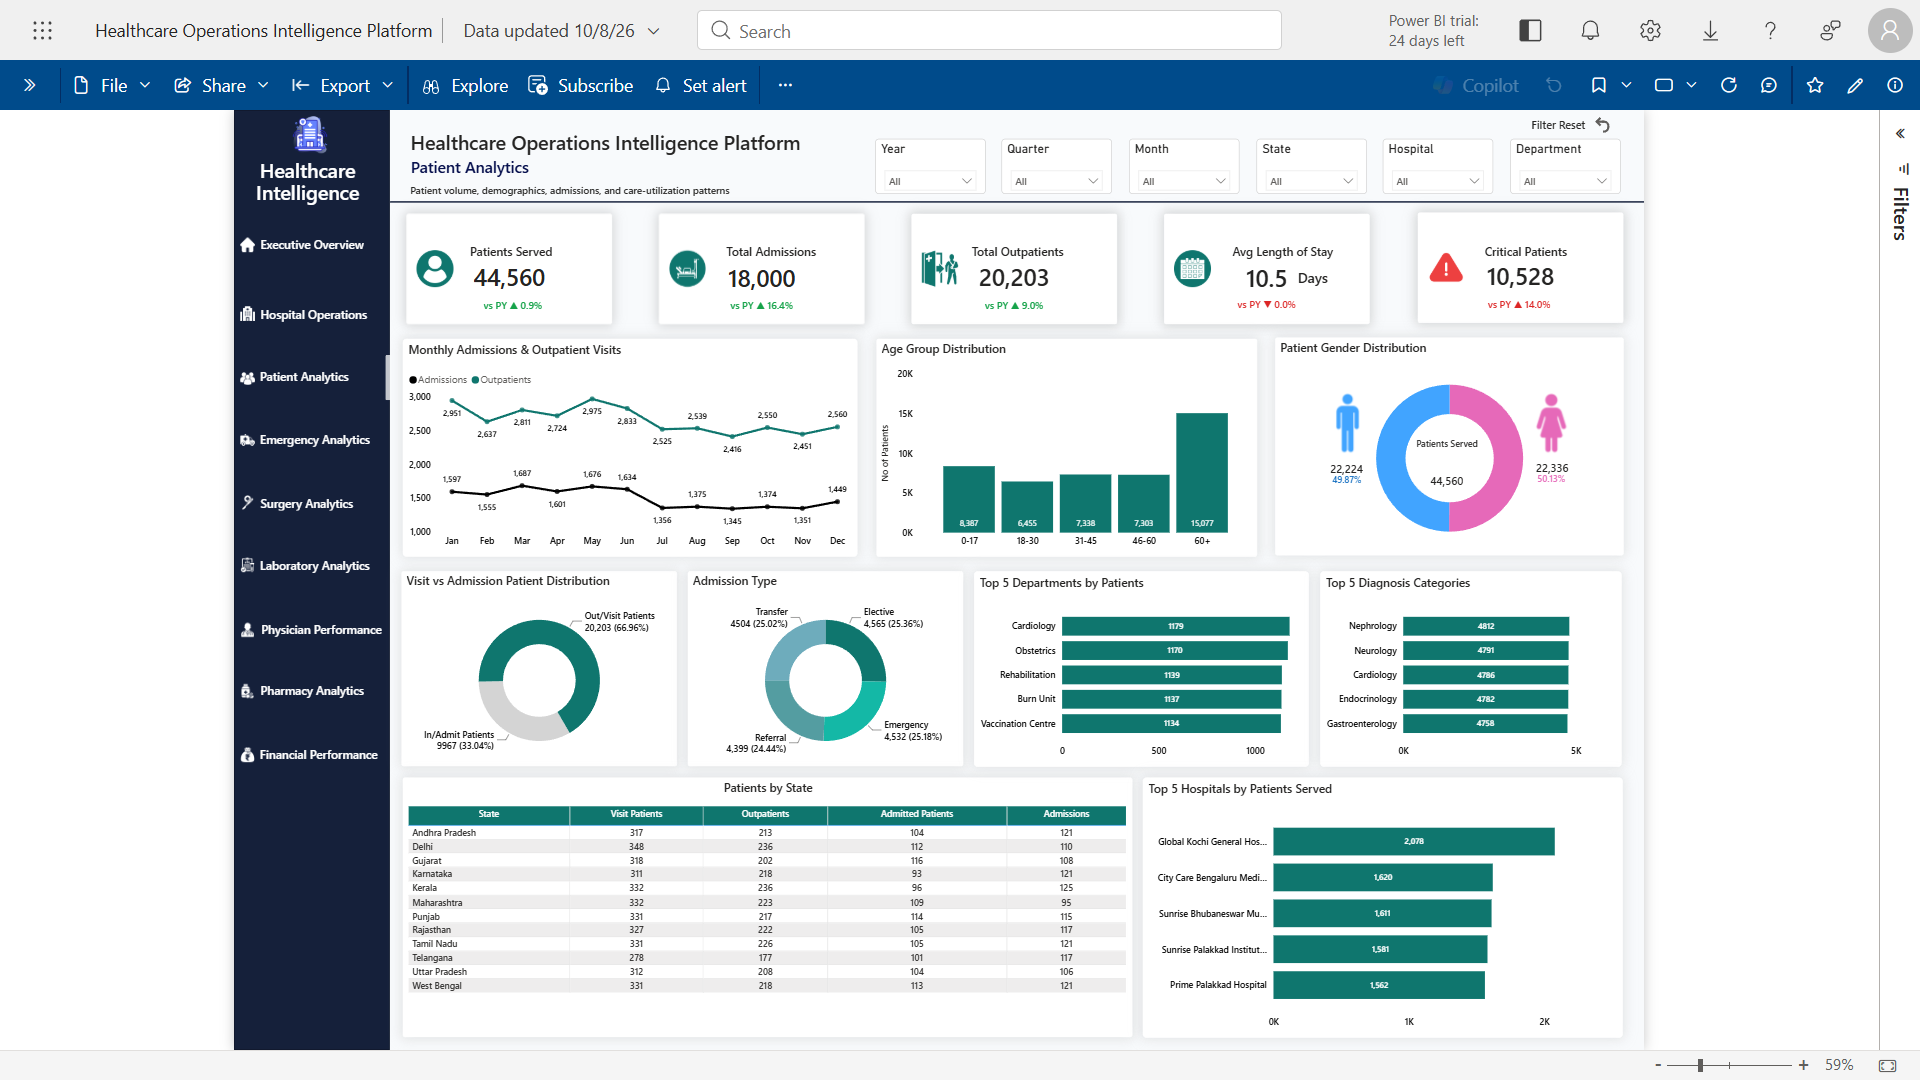

The page's visual inventory and layout, read from the dashboard file:
{"tool":"powerbi","page":{"name":"Patient Analytics","canvas":[1920,1280],"ordinal":2},"visuals":[{"type":"shape","box":[0,0,212,1280],"z":0},{"type":"textbox","box":[3.3,59.1,200.8,46.2],"z":0,"group":"g1"},{"type":"cardVisual","title":"Total Revenue","fields":{"Data":["_Dax.Critical Patients"]},"box":[1611.3,140.2,280.3,150],"z":0,"group":"g4"},{"type":"cardVisual","title":"Total Revenue","fields":{"Data":["_Dax.Total Outpatients"]},"box":[922.6,140.7,280.3,150],"z":0,"group":"g2"},{"type":"cardVisual","title":"Total Revenue","fields":{"Data":["_Dax.Patients Served"]},"box":[234.4,140.8,280.3,150],"z":0,"group":"g7"},{"type":"cardVisual","title":"Total Revenue","fields":{"Data":["_Dax.Total Admissions"]},"box":[578.5,140.8,280.3,150],"z":0,"group":"g8"},{"type":"cardVisual","title":"Total Revenue","fields":{"Data":["_Dax.Average Length of Stay"]},"box":[1266.9,141.2,280.3,150],"z":0,"group":"g3"},{"type":"donutChart","title":"Patient Gender Distribution","fields":{"Y":["_Dax.Total Female Patients","_Dax.Total Male Patients"]},"box":[1417.9,310.5,474.5,296.8],"z":0,"group":"g9"},{"type":"donutChart","title":"Visit vs Admission Patient Distribution","fields":{"Y":["_Dax.Inpatients (Admitted Patients)","_Dax.Outpatients (Visit Patients)"]},"box":[228.7,628.6,375,265.6],"z":0,"group":"g5"},{"type":"donutChart","title":"Admission Type","fields":{"Y":["_Dax.Admission Type Elective","_Dax.Admission Type Emergency","_Dax.Admission Type Referal","_Dax.Admission Type Transfer"]},"box":[618.5,628.6,375,265.6],"z":0,"group":"g6"},{"type":"actionButton","box":[1847.7,4.6,40,30],"z":1000},{"type":"textbox","box":[5,87.4,190.4,46.2],"z":1000,"group":"g1"},{"type":"image","box":[592.2,180.1,50,71.5],"z":1000,"group":"g8"},{"type":"image","box":[1280.6,180.5,50,71.5],"z":1000,"group":"g3"},{"type":"cardVisual","fields":{"Data":["_Dax.Patients vs PY"]},"box":[305,235.3,150,56],"z":1000,"group":"g7"},{"type":"cardVisual","fields":{"Data":["_Dax.Outpatients vs PY"]},"box":[987.3,235.8,150,56],"z":1000,"group":"g2"},{"type":"cardVisual","fields":{"Data":["_Dax.Critical Patients vs PY"]},"box":[1674.5,236.2,150,56],"z":1000,"group":"g4"},{"type":"cardVisual","title":"Patients Served","fields":{"Data":["_Dax.Patients Served"]},"box":[1589.5,425.9,123.9,124.5],"z":1000,"group":"g9"},{"type":"cardVisual","fields":{"Data":["_Dax.Avg Stay vs PY"]},"box":[1331.2,234.1,150,56],"z":1500,"group":"g3"},{"type":"textbox","box":[212,20,586,46],"z":2000},{"type":"image","box":[1625,179.5,50,71.5],"z":2000,"group":"g4"},{"type":"image","box":[936.3,180,50,71.5],"z":2000,"group":"g2"},{"type":"image","box":[248.1,180.1,50,71.5],"z":2000,"group":"g7"},{"type":"textbox","box":[1428.7,211.5,81.4,41.4],"z":2000,"group":"g3"},{"type":"cardVisual","fields":{"Data":["_Dax.Admission vs PY"]},"box":[643.7,235.8,150,56],"z":2000,"group":"g8"},{"type":"image","box":[1474.1,385.1,84.5,82.8],"z":2000,"group":"g9"},{"type":"textbox","box":[1757.7,4.6,90,31.5],"z":3000},{"type":"textbox","box":[315,176,125,32.5],"z":3000,"group":"g7"},{"type":"textbox","box":[649.1,176,162.5,36.2],"z":3000,"group":"g8"},{"type":"textbox","box":[998,176,143.8,32.5],"z":3000,"group":"g2"},{"type":"textbox","box":[1347.5,176.3,163.3,32.5],"z":3000,"group":"g3"},{"type":"textbox","box":[1687,177.3,144.5,38.2],"z":3000,"group":"g4"},{"type":"image","box":[1752.1,384.6,84.5,82.8],"z":3000,"group":"g9"},{"type":"textbox","box":[228,95.4,458.5,30],"z":4000},{"type":"cardVisual","fields":{"Data":["_Dax.Total Male Patients"]},"box":[1452.8,459.6,126.2,55.2],"z":4000,"group":"g9"},{"type":"textbox","box":[17.1,167.1,178.6,31.4],"z":5000},{"type":"cardVisual","fields":{"Data":["_Dax.Total Female Patients"]},"box":[1730.3,459,128,56.5],"z":5000,"group":"g9"},{"type":"textbox","box":[24.2,261.7,169.5,31.6],"z":6000},{"type":"cardVisual","fields":{"Data":["_Dax.Total Male Patients %"]},"box":[1455.2,475,120.9,55.2],"z":6000,"group":"g9"},{"type":"textbox","box":[224,58.2,192.7,46.4],"z":7000},{"type":"cardVisual","fields":{"Data":["_Dax.Total Female Patients %"]},"box":[1735.4,473.7,115.5,55.3],"z":7000,"group":"g9"},{"type":"group","id":"g1","title":"Health Care","box":[3.3,59.1,200.8,74.6],"z":8000},{"type":"image","box":[79,9.1,50,50],"z":9000},{"type":"slicer","title":"Quarter","fields":{"Values":["Dim_Date.Quarter"]},"box":[1045.8,38.9,150,75],"z":10000},{"type":"slicer","title":"Month","fields":{"Values":["Dim_Date.MonthName"]},"box":[1218.9,38.9,150,75],"z":11000},{"type":"slicer","title":"State","fields":{"Values":["Dim_Patient.State"]},"box":[1392,38.9,150,75],"z":12000},{"type":"slicer","title":"Hospital","fields":{"Values":["Dim_Hospital.HospitalName"]},"box":[1565.1,38.9,150,75],"z":13000},{"type":"shape","box":[212.1,119.3,1707.9,12],"z":14000},{"type":"textbox","box":[17,347.3,157.4,31.6],"z":15000},{"type":"textbox","box":[25.8,432.8,169.5,31.6],"z":16000},{"type":"textbox","box":[21,518.4,157.4,31.6],"z":17000},{"type":"textbox","box":[24,604,172.5,31.7],"z":18000},{"type":"textbox","box":[24.2,860.8,183.2,31.6],"z":19000},{"type":"textbox","box":[25,691.5,187,31.5],"z":20000},{"type":"textbox","box":[5,775.2,202.5,31.7],"z":22000},{"type":"group","id":"g2","title":"KPI 3","box":[922.6,140.7,280.3,151.1],"z":23000},{"type":"group","id":"g3","title":"KPI 4","box":[1266.9,141.2,280.3,150],"z":24000},{"type":"group","id":"g4","title":"KPI 5","box":[1611.3,140.2,280.3,152],"z":25000},{"type":"shape","box":[205.5,334,7.3,61.8],"z":26000},{"type":"image","box":[8.5,173,20,20],"z":27000},{"type":"image","box":[8.5,267.5,20,20],"z":28000},{"type":"image","box":[8.5,355,20,20],"z":29000},{"type":"image","box":[8.5,438,20,20],"z":30000},{"type":"image","box":[8.5,524,20,20],"z":31000},{"type":"image","box":[8,610,20,20],"z":32000},{"type":"image","box":[8,697.5,20,20],"z":33000},{"type":"image","box":[8,781,20,20],"z":34000},{"type":"image","box":[8,868,20,20],"z":35000},{"type":"group","id":"g5","title":"Patient Distribution","box":[228.7,628.6,375,265.6],"z":36000},{"type":"group","id":"g6","title":"Patient Distribution","box":[618.5,628.6,375,265.6],"z":37000},{"type":"tableEx","title":"Patients by State","fields":{"Values":["Dim_Patient.State","_Dax.Visit Patients","_Dax.Outpatients (Visit Patients)","_Dax.Inpatients (Admitted Patients)","_Dax.Total Admissions"]},"box":[230,908.8,993.8,353.8],"z":38000},{"type":"slicer","title":"Department","fields":{"Values":["Dim_Department.DepartmentName"]},"box":[1738.1,38.9,150,75],"z":39000},{"type":"slicer","title":"Year","fields":{"Values":["Dim_Date.Year"]},"box":[872.7,38.9,150,75],"z":40000},{"type":"group","id":"g7","title":"KPI 3","box":[234.4,140.8,280.3,150.5],"z":41000},{"type":"group","id":"g8","title":"KPI 4","box":[578.5,140.8,280.3,151],"z":42000},{"type":"lineChart","title":"Monthly Admissions & Outpatient Visits","fields":{"Category":["Dim_Date.MonthShort"],"Y":["_Dax.Total Admissions","_Dax.Total Outpatients"]},"box":[229.9,310.7,619,296.4],"z":43000},{"type":"columnChart","title":"Age Group Distribution","fields":{"Category":["Dim_Patient.Age Group Distribution"],"Y":["_Dax.Patients Served"]},"box":[874.3,310.7,518.2,296.4],"z":44000},{"type":"group","id":"g9","title":"Patient Distribution","box":[1417.9,310.5,474.5,296.8],"z":45000},{"type":"clusteredBarChart","title":"Top 5 Departments by Patients","fields":{"Category":["Dim_Department.DepartmentName"],"Y":["_Dax.Patient by Department"]},"box":[1008.2,628.2,456.2,266.2],"z":46000},{"type":"clusteredBarChart","title":"Top 5 Diagnosis Categories","fields":{"Category":["Dim_Disease.DiseaseCategory"],"Y":["_Dax.Patient by Department"]},"box":[1479.2,628.2,410,266.2],"z":47000},{"type":"clusteredBarChart","title":"Top 5 Hospitals by Patients Served","fields":{"Category":["Dim_Hospital.HospitalName"],"Y":["_Dax.Patients Served"]},"box":[1237.7,909.7,653.8,354.3],"z":48000}]}

Visuals, with their boxes on the page's 1920x1280 design canvas (x1, y1, x2, y2). These are canvas units, not pixel positions in the 1920x1080 screenshot, which may show the page scaled, cropped or inside an application window:
shape: 0:0:212:1280
textbox: 3:59:204:105
"Total Revenue" cardVisual: 1611:140:1892:290
"Total Revenue" cardVisual: 923:141:1203:291
"Total Revenue" cardVisual: 234:141:515:291
"Total Revenue" cardVisual: 578:141:859:291
"Total Revenue" cardVisual: 1267:141:1547:291
"Patient Gender Distribution" donutChart: 1418:310:1892:607
"Visit vs Admission Patient Distribution" donutChart: 229:629:604:894
"Admission Type" donutChart: 618:629:994:894
actionButton: 1848:5:1888:35
textbox: 5:87:195:134
image: 592:180:642:252
image: 1281:180:1331:252
cardVisual - _Dax.Patients vs PY: 305:235:455:291
cardVisual - _Dax.Outpatients vs PY: 987:236:1137:292
cardVisual - _Dax.Critical Patients vs PY: 1674:236:1824:292
"Patients Served" cardVisual: 1590:426:1713:550
cardVisual - _Dax.Avg Stay vs PY: 1331:234:1481:290
textbox: 212:20:798:66
image: 1625:180:1675:251
image: 936:180:986:252
image: 248:180:298:252
textbox: 1429:212:1510:253
cardVisual - _Dax.Admission vs PY: 644:236:794:292
image: 1474:385:1559:468
textbox: 1758:5:1848:36
textbox: 315:176:440:208
textbox: 649:176:812:212
textbox: 998:176:1142:208
textbox: 1348:176:1511:209
textbox: 1687:177:1832:216
image: 1752:385:1837:467
textbox: 228:95:686:125
cardVisual - _Dax.Total Male Patients: 1453:460:1579:515
textbox: 17:167:196:198
cardVisual - _Dax.Total Female Patients: 1730:459:1858:516
textbox: 24:262:194:293
cardVisual - _Dax.Total Male Patients %: 1455:475:1576:530
textbox: 224:58:417:105
cardVisual - _Dax.Total Female Patients %: 1735:474:1851:529
"Health Care" group: 3:59:204:134
image: 79:9:129:59
"Quarter" slicer: 1046:39:1196:114
"Month" slicer: 1219:39:1369:114
"State" slicer: 1392:39:1542:114
"Hospital" slicer: 1565:39:1715:114
shape: 212:119:1920:131
textbox: 17:347:174:379
textbox: 26:433:195:464
textbox: 21:518:178:550
textbox: 24:604:196:636
textbox: 24:861:207:892
textbox: 25:692:212:723
textbox: 5:775:208:807
"KPI 3" group: 923:141:1203:292
"KPI 4" group: 1267:141:1547:291
"KPI 5" group: 1611:140:1892:292
shape: 206:334:213:396
image: 8:173:28:193
image: 8:268:28:288
image: 8:355:28:375
image: 8:438:28:458
image: 8:524:28:544
image: 8:610:28:630
image: 8:698:28:718
image: 8:781:28:801
image: 8:868:28:888
"Patient Distribution" group: 229:629:604:894
"Patient Distribution" group: 618:629:994:894
"Patients by State" tableEx: 230:909:1224:1263
"Department" slicer: 1738:39:1888:114
"Year" slicer: 873:39:1023:114
"KPI 3" group: 234:141:515:291
"KPI 4" group: 578:141:859:292
"Monthly Admissions & Outpatient Visits" lineChart: 230:311:849:607
"Age Group Distribution" columnChart: 874:311:1392:607
"Patient Distribution" group: 1418:310:1892:607
"Top 5 Departments by Patients" clusteredBarChart: 1008:628:1464:894
"Top 5 Diagnosis Categories" clusteredBarChart: 1479:628:1889:894
"Top 5 Hospitals by Patients Served" clusteredBarChart: 1238:910:1892:1264
